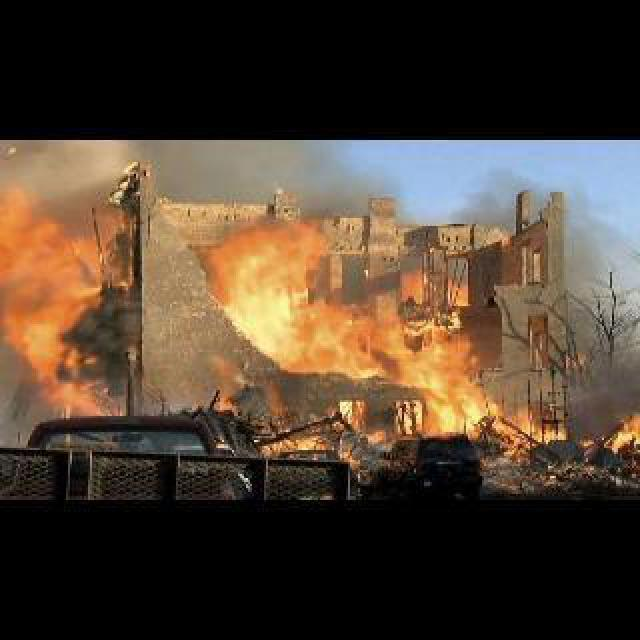Fire: (2, 204, 562, 438)
